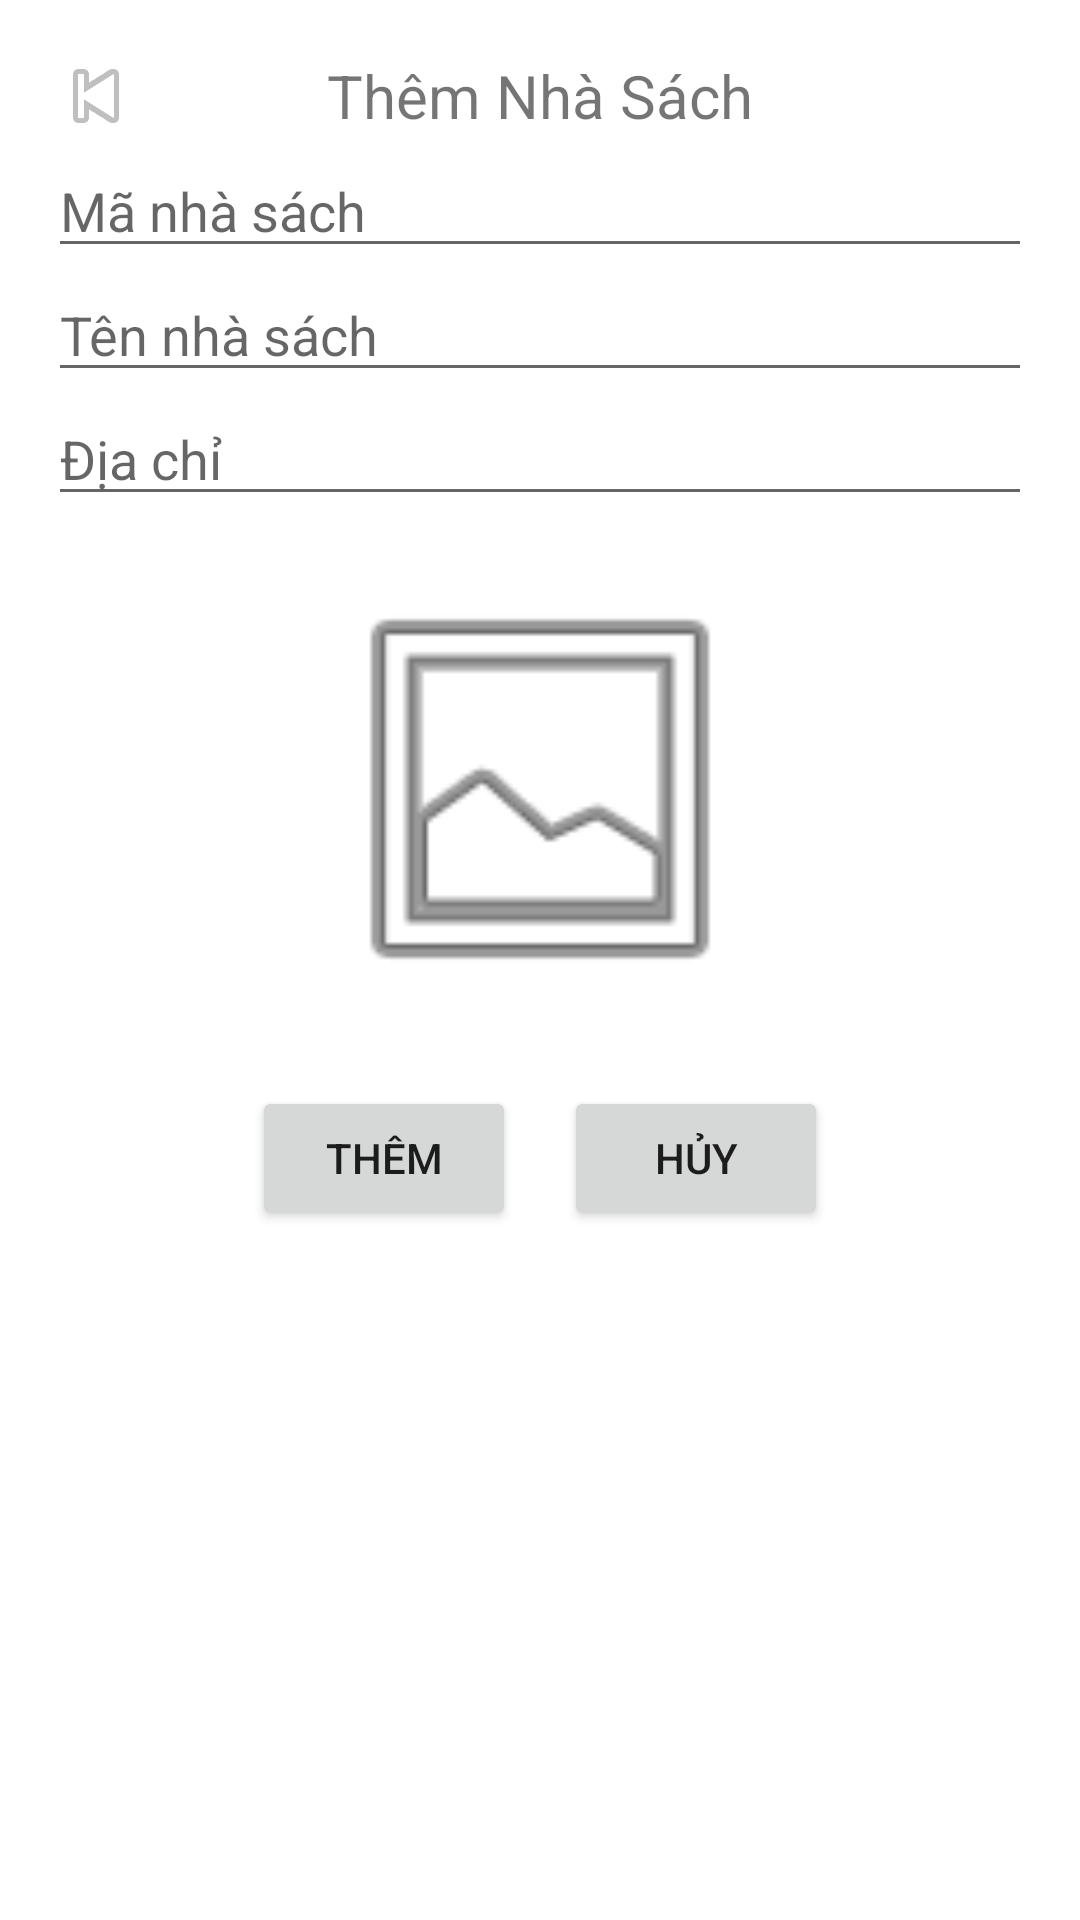

Named icons in this screenshot (1080 × 1920) and their centers, [x,y]:
Chọn ảnh: [540,789]
Quay lại: [96,96]
